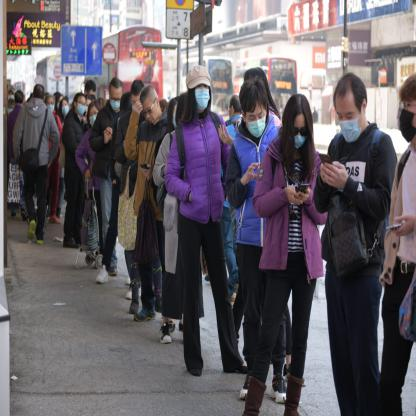Not_Wearing_Mask: (141, 103, 157, 124)
Wearing_Mask: (335, 107, 361, 142), (398, 96, 415, 142), (245, 108, 266, 136), (289, 122, 308, 150), (194, 84, 210, 110), (109, 93, 121, 110), (76, 98, 85, 116), (88, 110, 97, 125), (60, 101, 69, 116), (45, 100, 55, 113)
